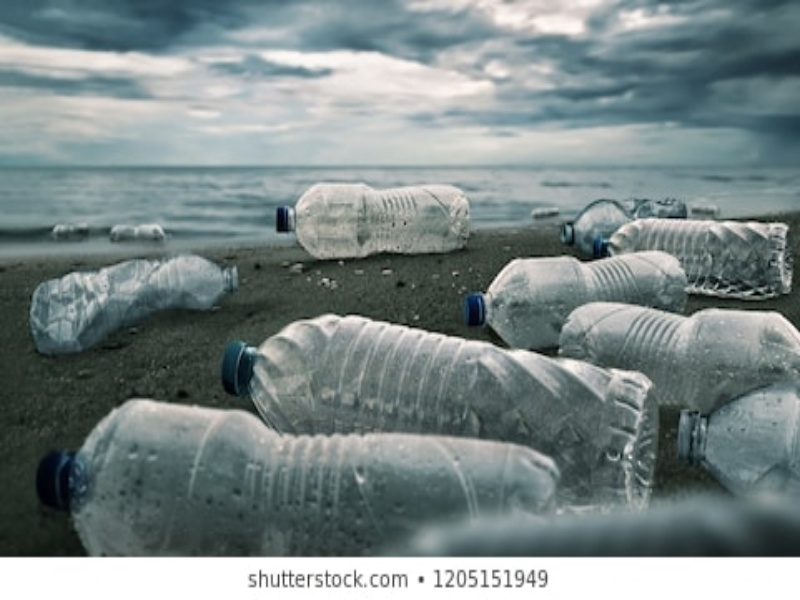bottle-cap: (31, 448, 85, 513), (220, 341, 255, 396), (461, 285, 491, 326)
plastic-bottle: (215, 315, 670, 502), (36, 396, 563, 556), (559, 301, 800, 407), (24, 254, 248, 348), (446, 252, 691, 335), (588, 216, 800, 297), (272, 182, 475, 255), (678, 385, 800, 495), (558, 200, 720, 245), (108, 223, 169, 241), (50, 221, 92, 242)
